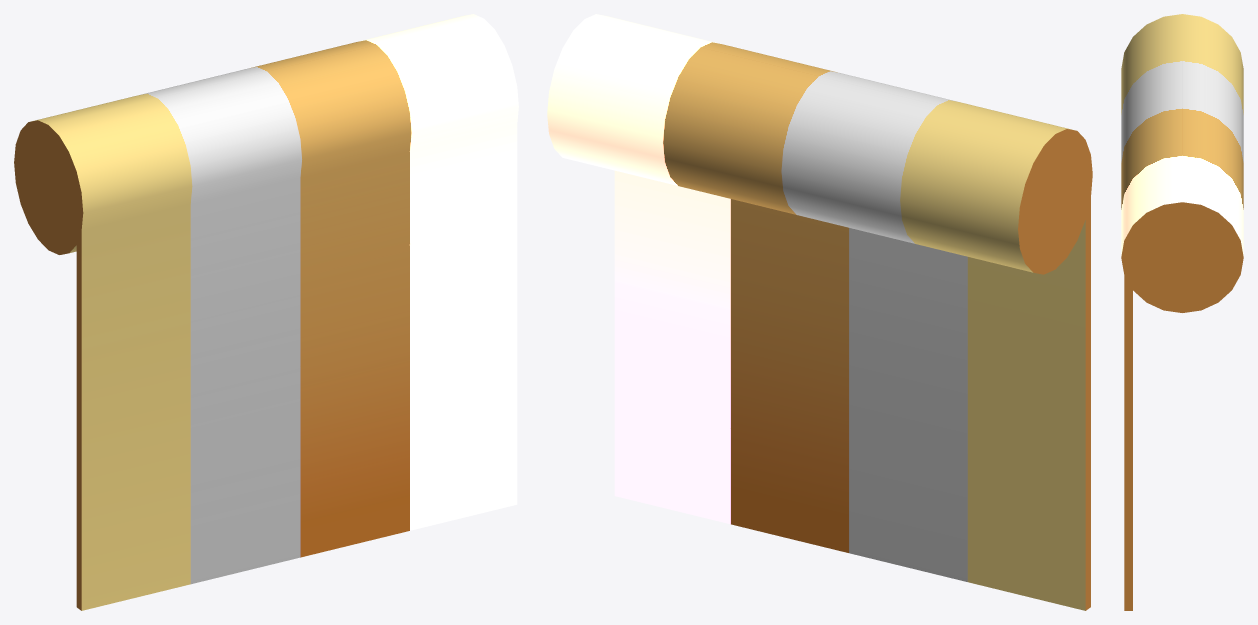
Rendered from ColorSet_01.fbx.
3 renders of one model, left to right at view 1: azimuth 30°, elevation 25°; view 2: azimuth 150°, elevation 25°; view 3: azimuth 270°, elevation 25°, orthographic. The views are drawn at different scales.
Visible parts, largest first — view 1: ColorSet_01; view 2: ColorSet_01; view 3: ColorSet_01.
Boxes of the visible parts, x1,y1,x2,y2 form: ColorSet_01: (14,14,518,610); ColorSet_01: (547,14,1092,610); ColorSet_01: (1121,14,1243,610).
Size of the model in its own units: 66.97 by 18.42 by 67.84.
